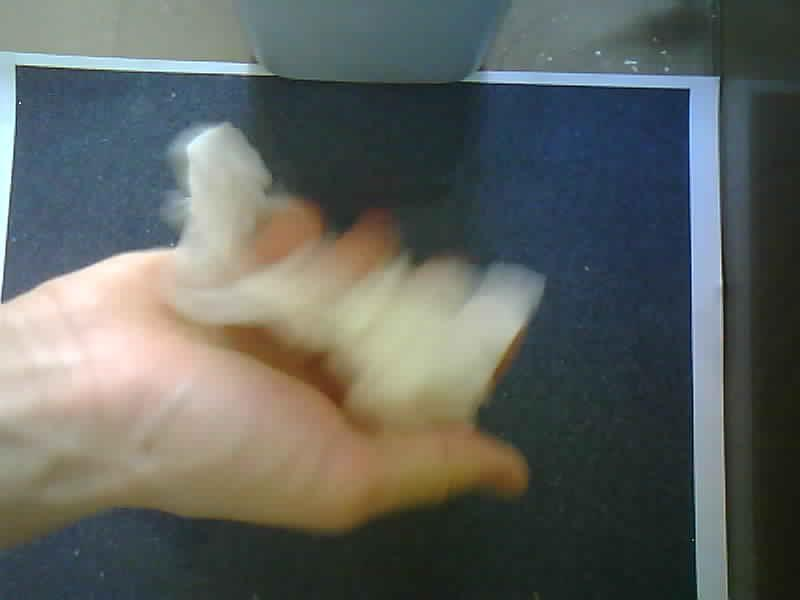paper: (163, 125, 541, 430)
